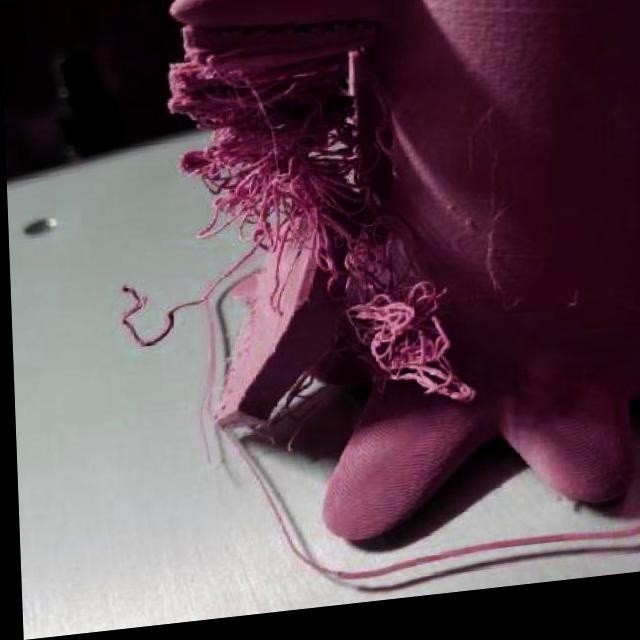spaghetti: (162, 36, 472, 473), (114, 280, 173, 354)
